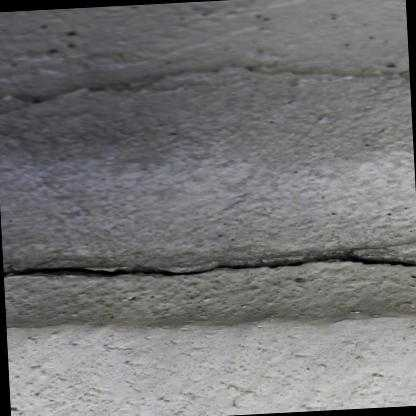crack: (3, 249, 416, 278)
